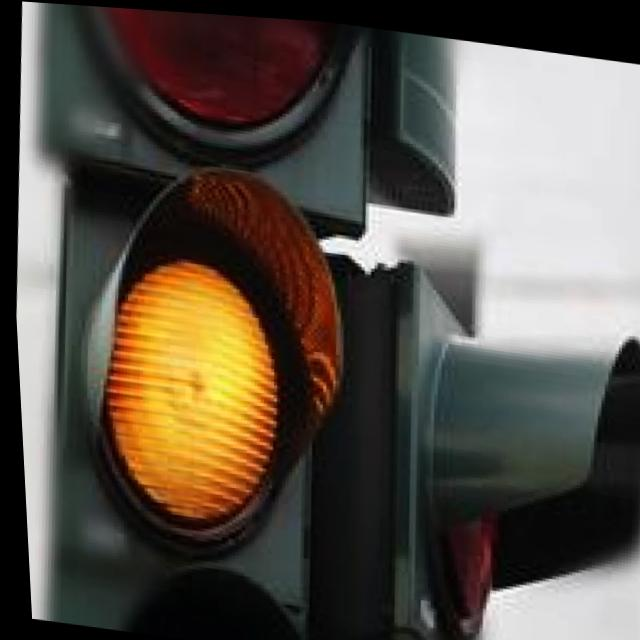yellow_light: (28, 160, 375, 534)
